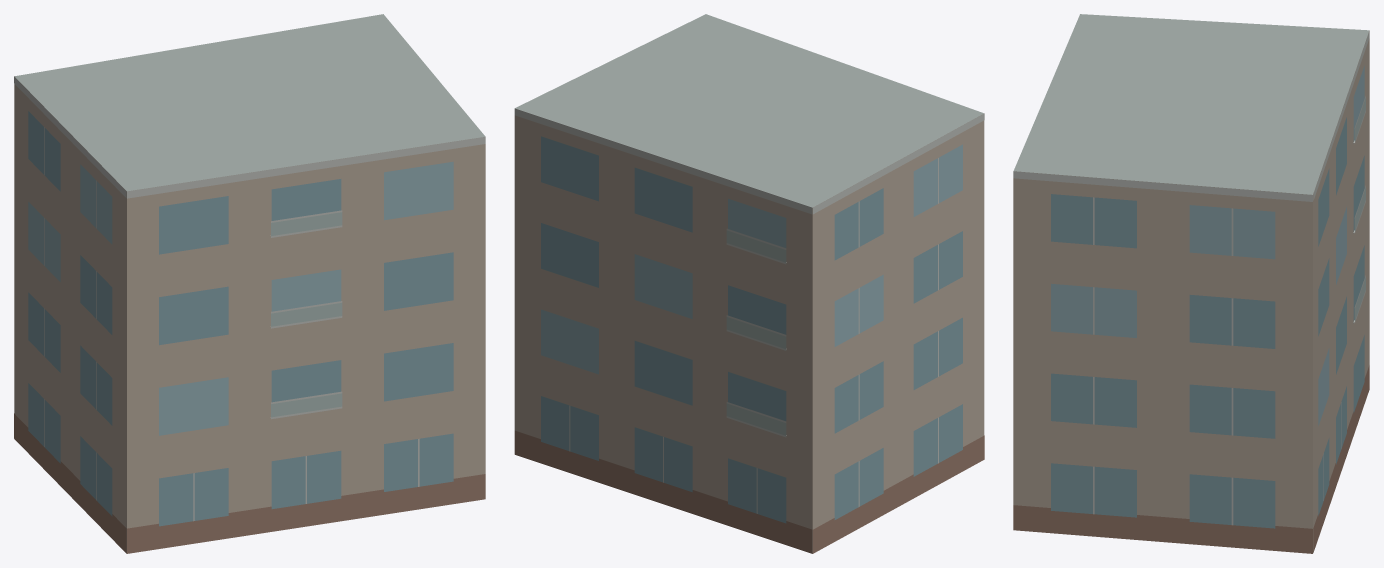
File: survey-upis-32881614.glb
3 views of the same model, side by side, from view 1: azimuth 30°, elevation 25°; view 2: azimuth 150°, elevation 25°; view 3: azimuth 270°, elevation 25° (orthographic). The views are drawn at different scales.
Parts seen in each view (by area): view 1: survey-upis-32881614.tmp; view 2: survey-upis-32881614.tmp; view 3: survey-upis-32881614.tmp.
Part boxes in pixels (x1=…): survey-upis-32881614.tmp: x1=14, y1=14, x2=485, y2=553; survey-upis-32881614.tmp: x1=514, y1=14, x2=984, y2=553; survey-upis-32881614.tmp: x1=1013, y1=14, x2=1369, y2=553.
Bounding box in the file's own units: 13.19 × 12.2 × 10.98.
